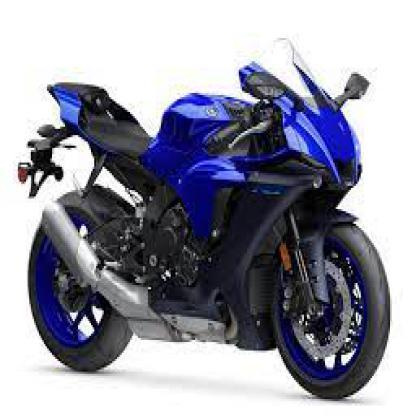Motorcycle: (12, 36, 395, 402)
